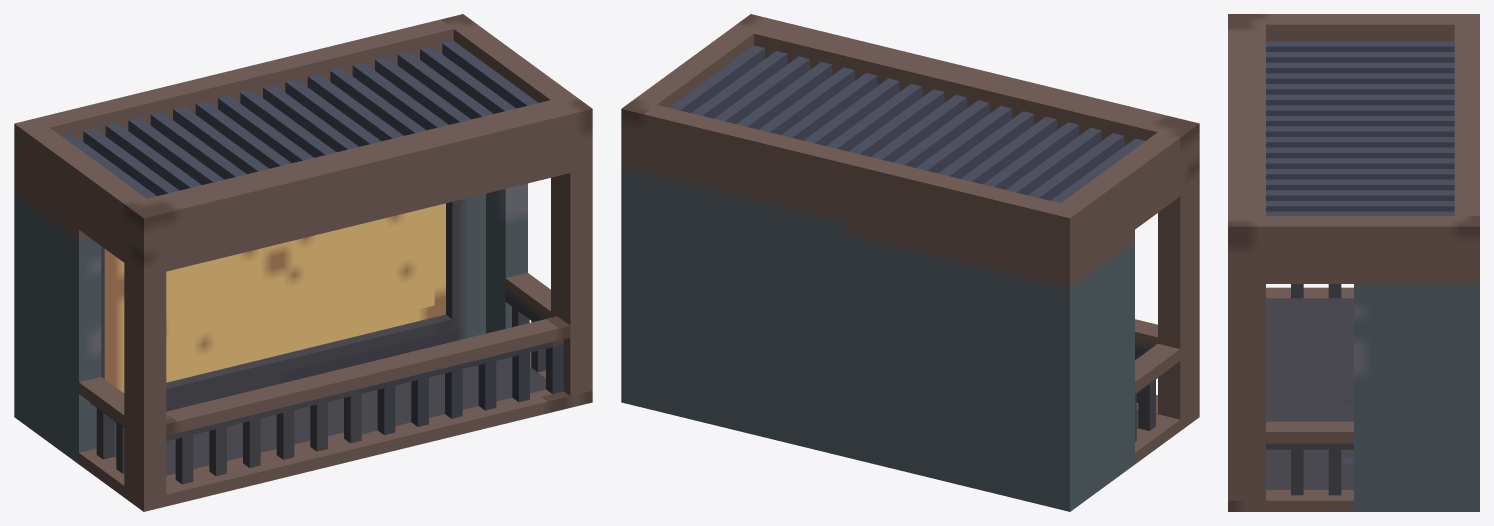
The model's file is BuildingBlock-8.fbx.
3 views of the same model, side by side, from view 1: azimuth 30°, elevation 25°; view 2: azimuth 150°, elevation 25°; view 3: azimuth 270°, elevation 25° (orthographic). The views are drawn at different scales.
Parts seen in each view (by area): view 1: BuildingBlock_8; view 2: BuildingBlock_8; view 3: BuildingBlock_8.
Part boxes in pixels (box(x1,y1,x2,y2)): BuildingBlock_8: box(14, 14, 592, 511); BuildingBlock_8: box(621, 14, 1199, 511); BuildingBlock_8: box(1228, 14, 1479, 511).
Bounding box in the file's own units: 400 × 250 × 200.
Materials: 2 (2 with a texture image).
